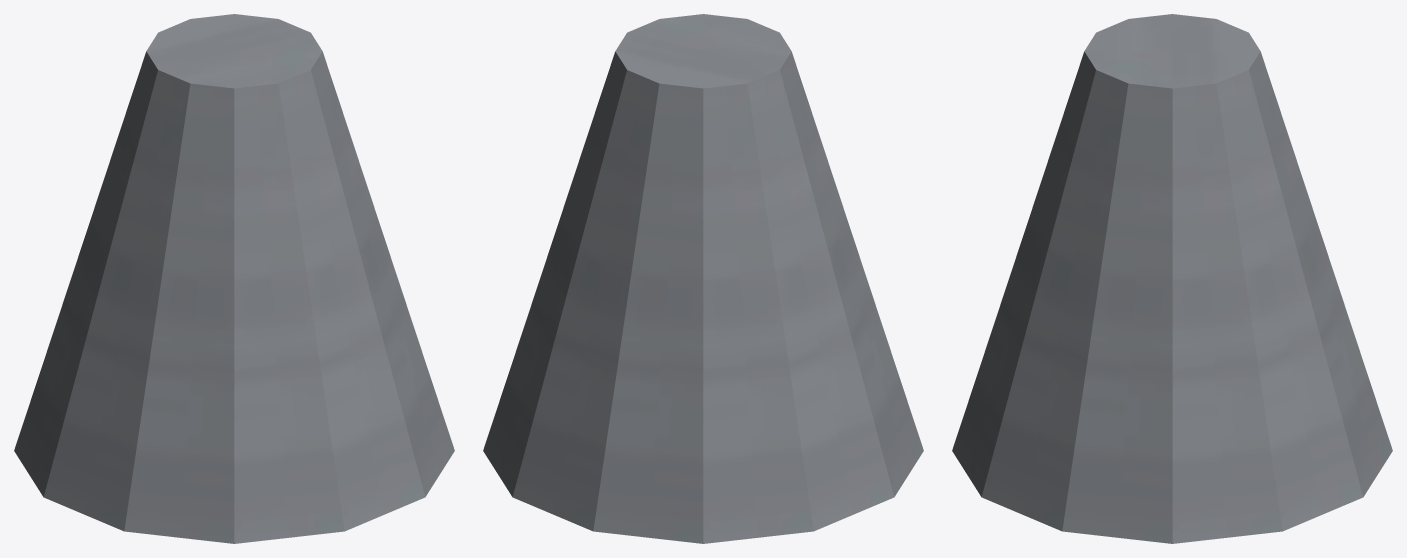
File: tower.bell.glb
3 renders of one model, left to right at view 1: azimuth 30°, elevation 25°; view 2: azimuth 150°, elevation 25°; view 3: azimuth 270°, elevation 25°, orthographic.
Visible parts, largest first — view 1: town.tower.bell; view 2: town.tower.bell; view 3: town.tower.bell.
Part boxes in pixels (x1=…): town.tower.bell: x1=14, y1=14, x2=454, y2=543; town.tower.bell: x1=483, y1=14, x2=923, y2=543; town.tower.bell: x1=952, y1=14, x2=1392, y2=543.
Size of the model in its own units: 0.6 by 0.65 by 0.6.
1 material, 1 textured.
